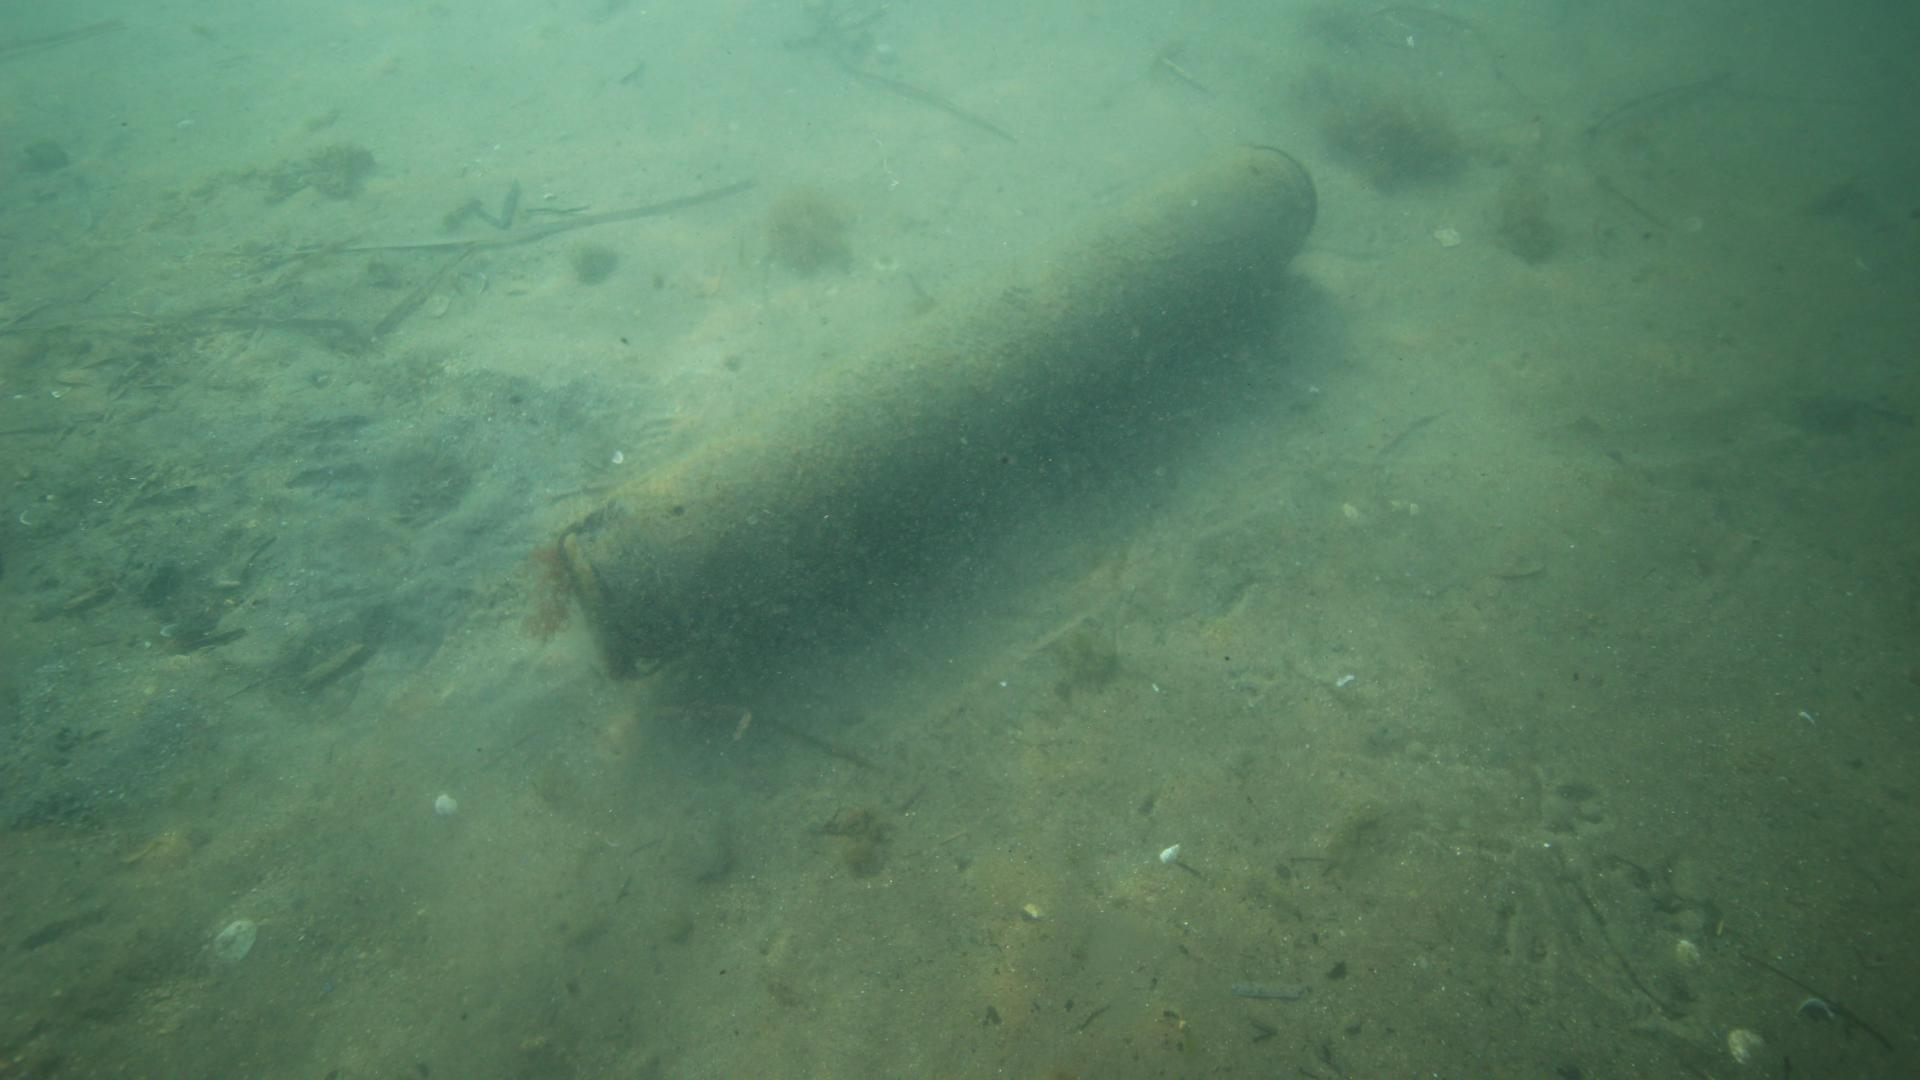eel fish trap: (555, 140, 1324, 691)
